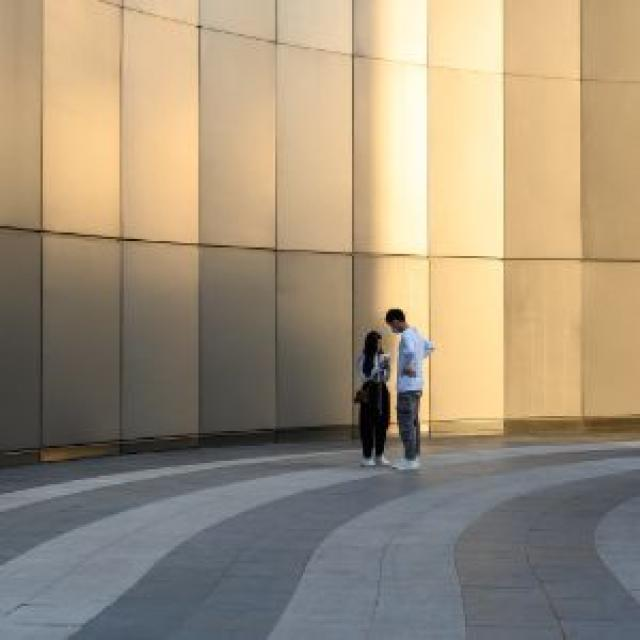nonfall: (391, 300, 460, 473), (343, 324, 394, 472)
